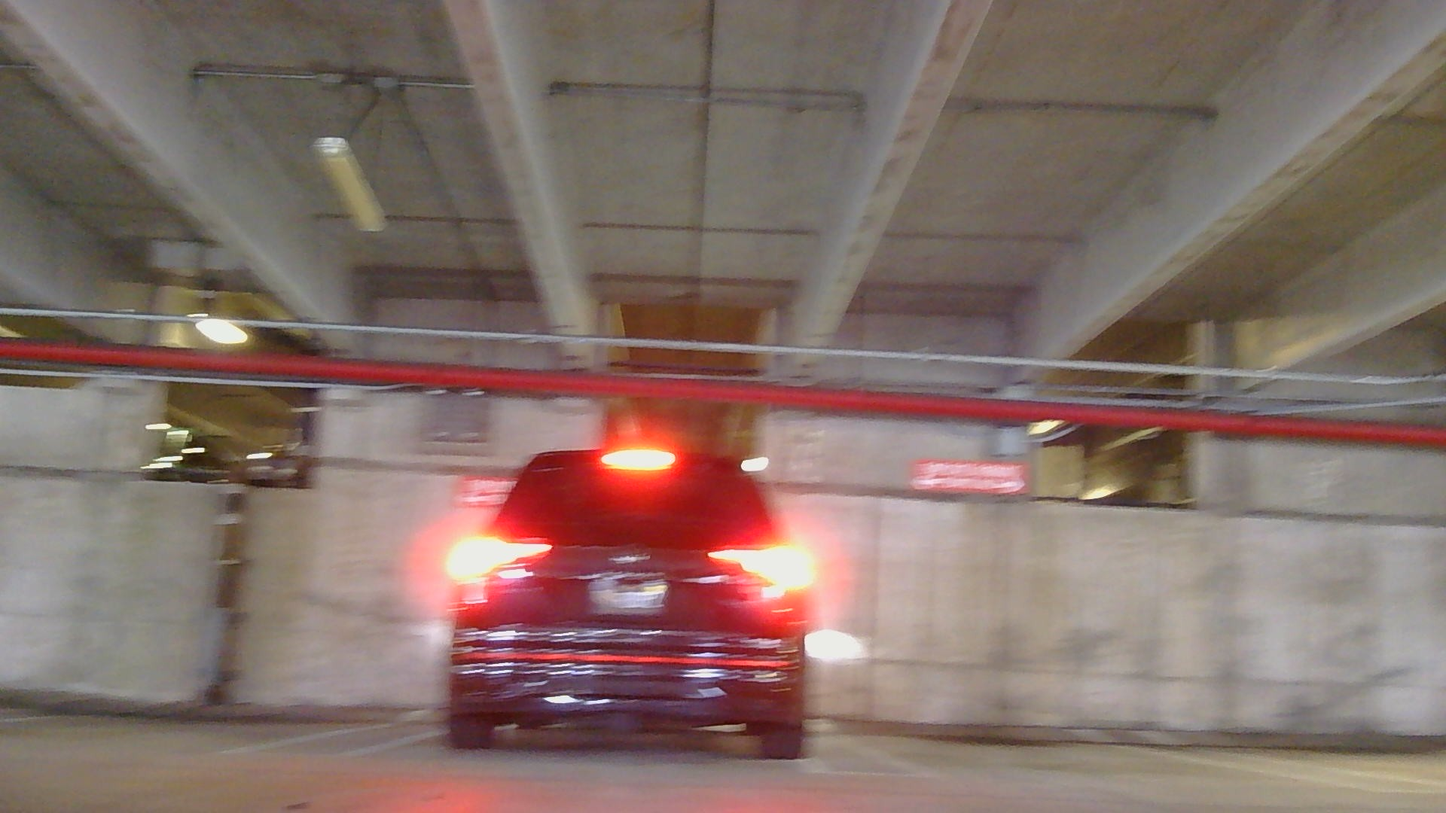empty_spot: (835, 593, 1441, 810), (0, 625, 407, 773)
occupied_spot: (320, 443, 840, 781)
